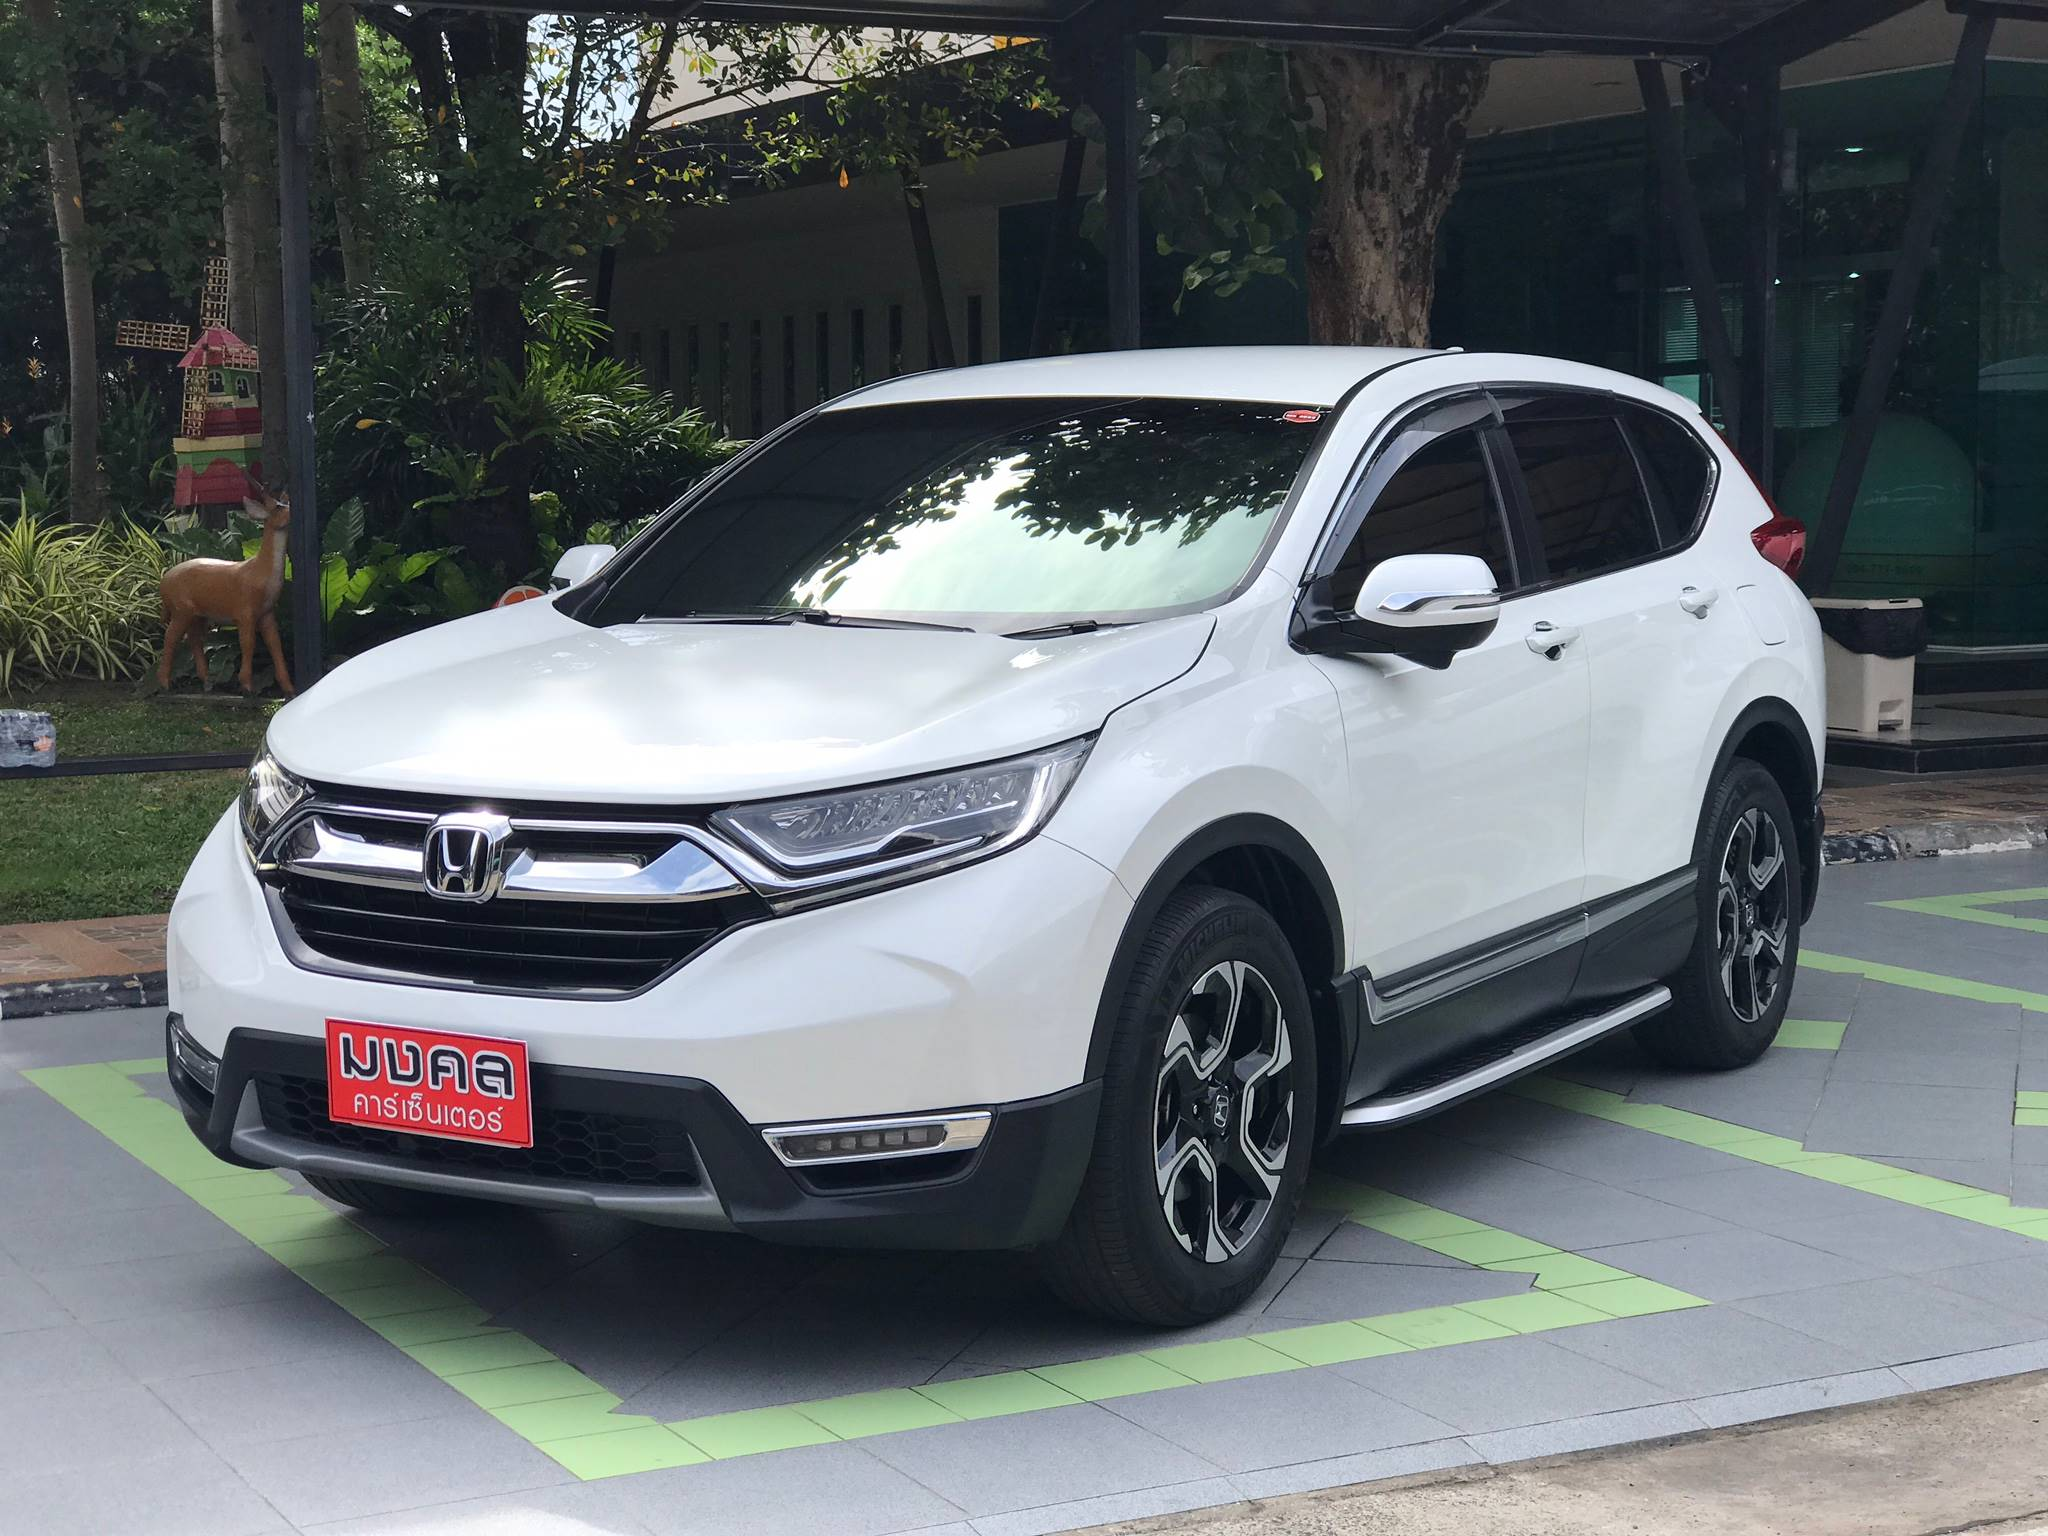pickup: (153, 332, 1837, 1321)
